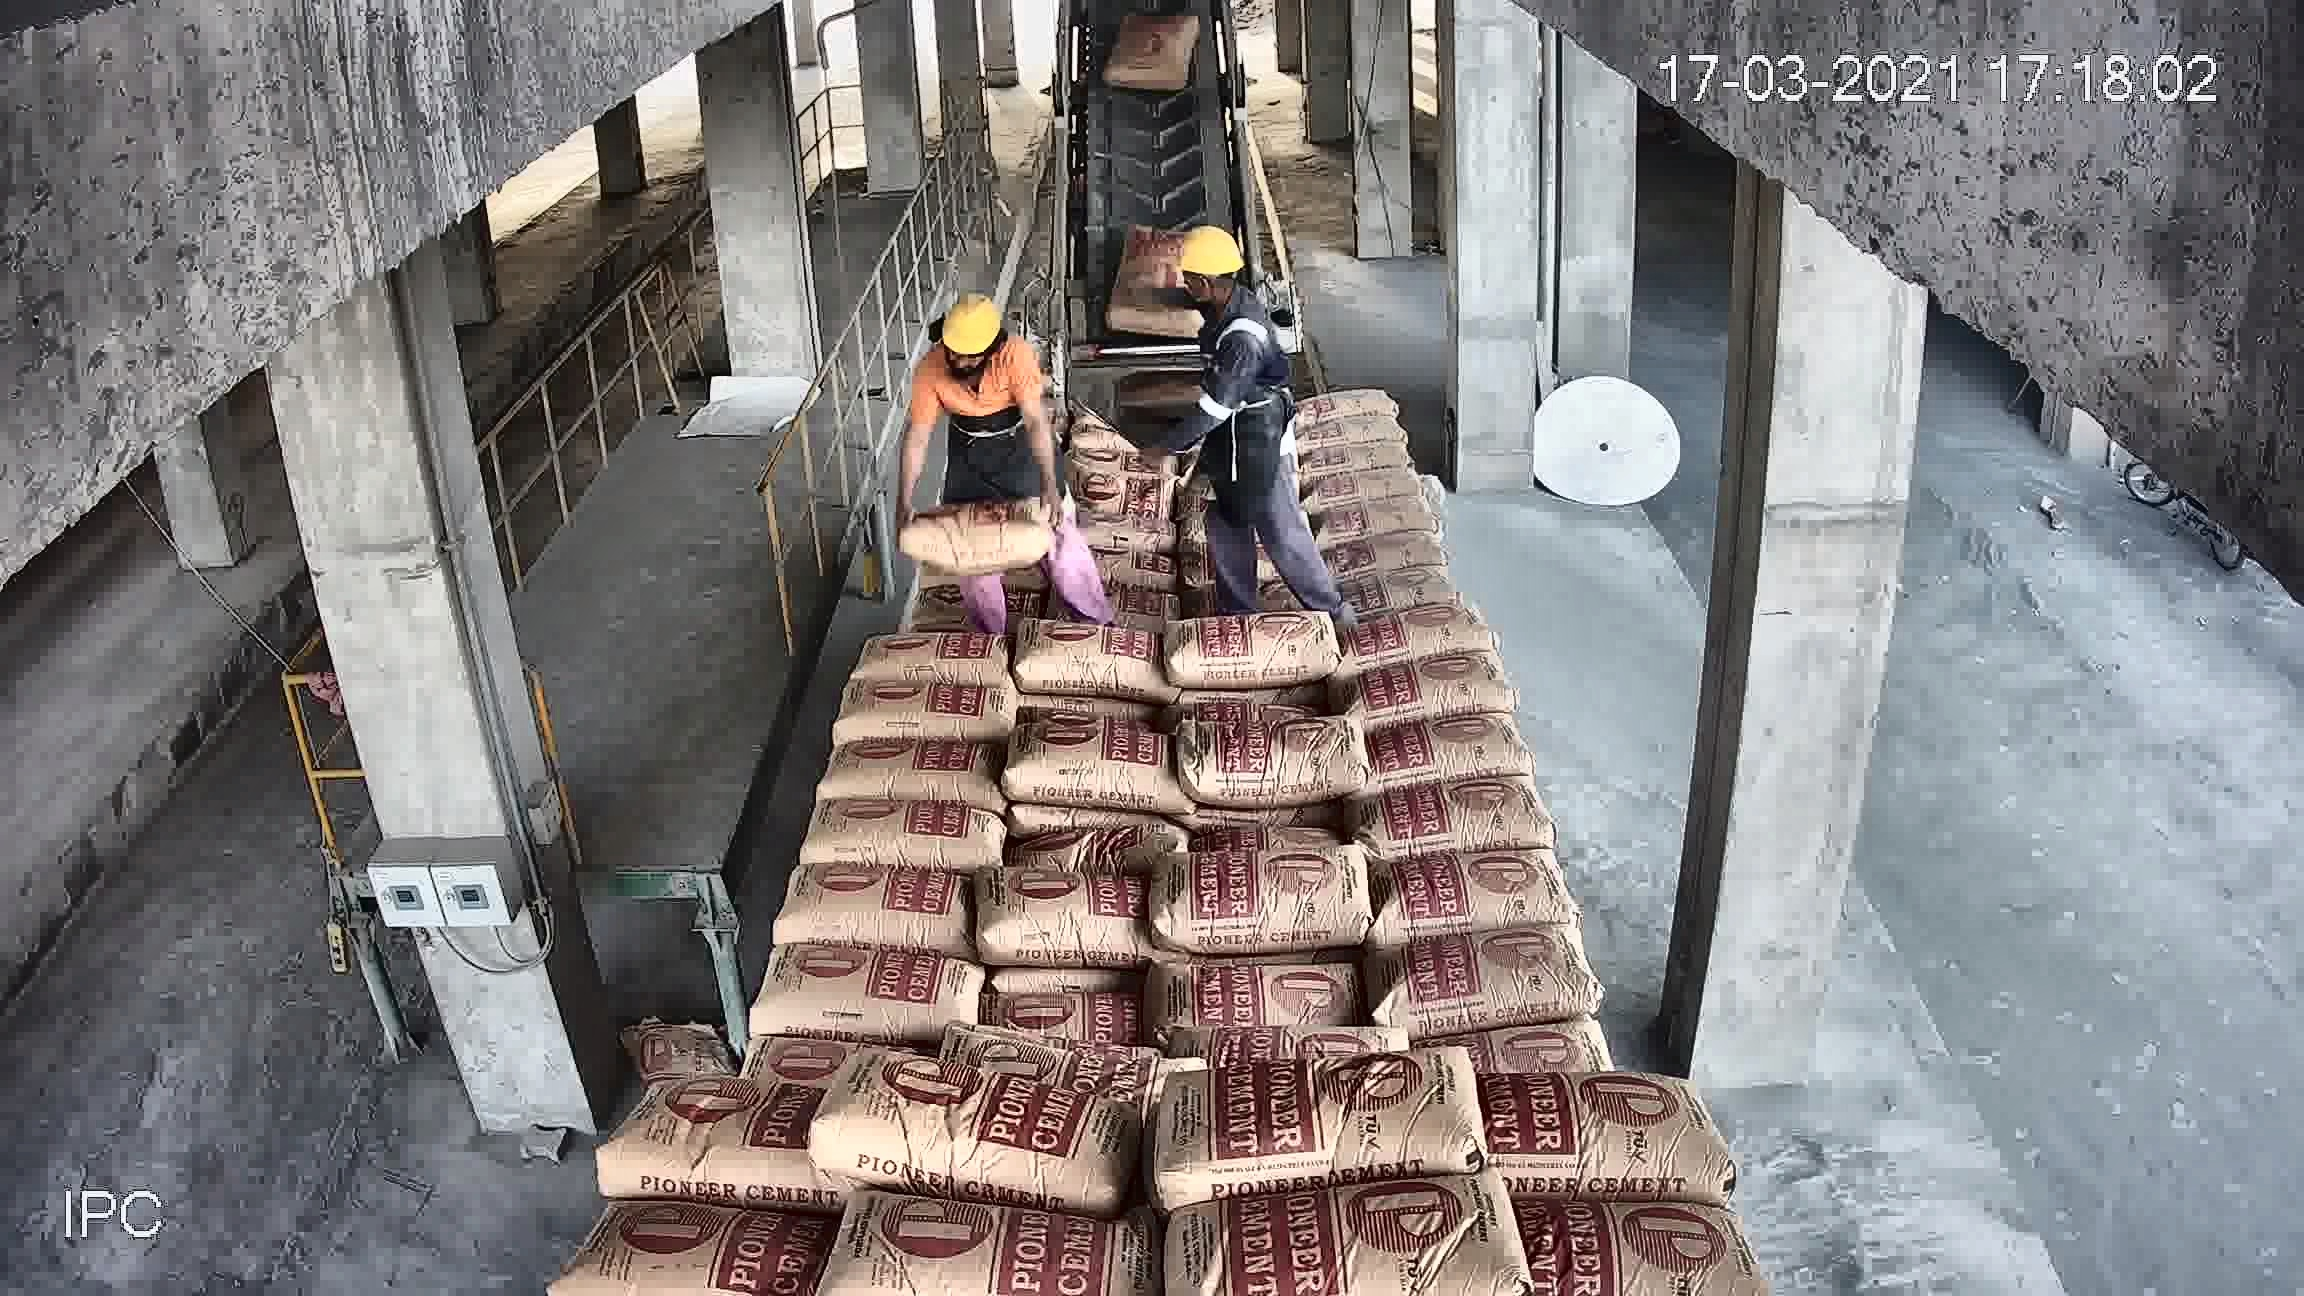bag: (1112, 223, 1192, 334), (1112, 11, 1195, 87)
bag_h: (1147, 1044, 1495, 1204), (1160, 1174, 1518, 1293), (820, 1054, 1138, 1185), (1478, 1063, 1744, 1201), (812, 1195, 1139, 1294), (597, 1079, 820, 1206), (1377, 921, 1600, 1035), (552, 1198, 821, 1291), (1522, 1196, 1771, 1296), (1147, 945, 1372, 1051), (1158, 847, 1385, 946), (752, 945, 978, 1041), (1366, 836, 1579, 935), (980, 859, 1158, 970), (1176, 714, 1367, 812), (772, 859, 973, 949), (1160, 608, 1347, 701), (999, 728, 1179, 820), (805, 733, 1010, 809), (1353, 779, 1554, 850), (798, 801, 1006, 869), (1364, 699, 1532, 780), (1343, 585, 1491, 673), (1011, 616, 1158, 699), (837, 680, 1022, 747), (1022, 818, 1201, 885), (900, 492, 1049, 567), (1353, 650, 1514, 718), (851, 612, 1013, 680), (980, 983, 1146, 1044), (1315, 487, 1443, 543), (1312, 530, 1454, 579), (1321, 571, 1470, 616), (1287, 380, 1407, 426), (1301, 464, 1427, 498), (1304, 441, 1419, 478), (1294, 419, 1416, 449)
belt: (1040, 21, 1277, 421)
